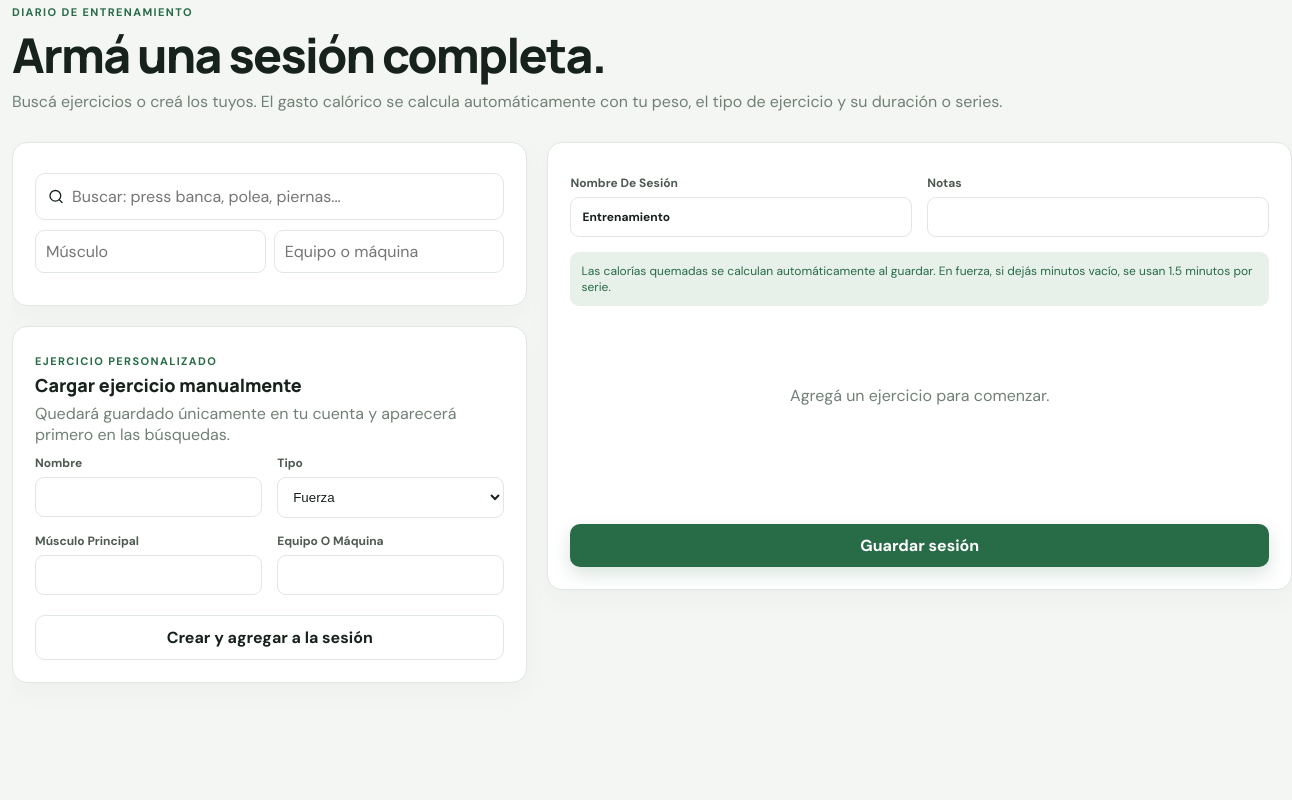
creates a private manual exercise and adds it to the session
In the field labelled "Nombre": [149, 497] box x1=35 y1=477 x2=262 y2=517, type "Press especial"
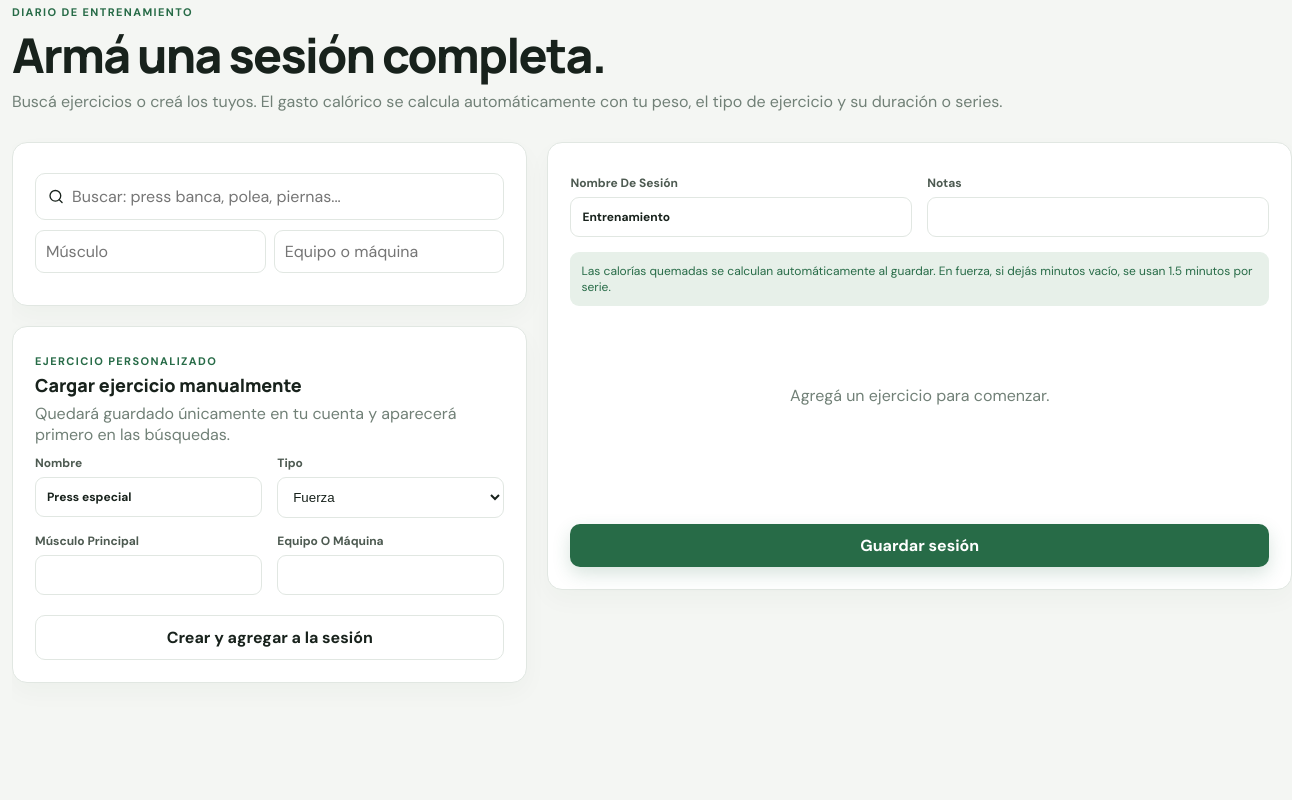
In the field labelled "Equipo o máquina" below "Músculo principal": [391, 575] box x1=277 y1=555 x2=504 y2=595, type "Polea"
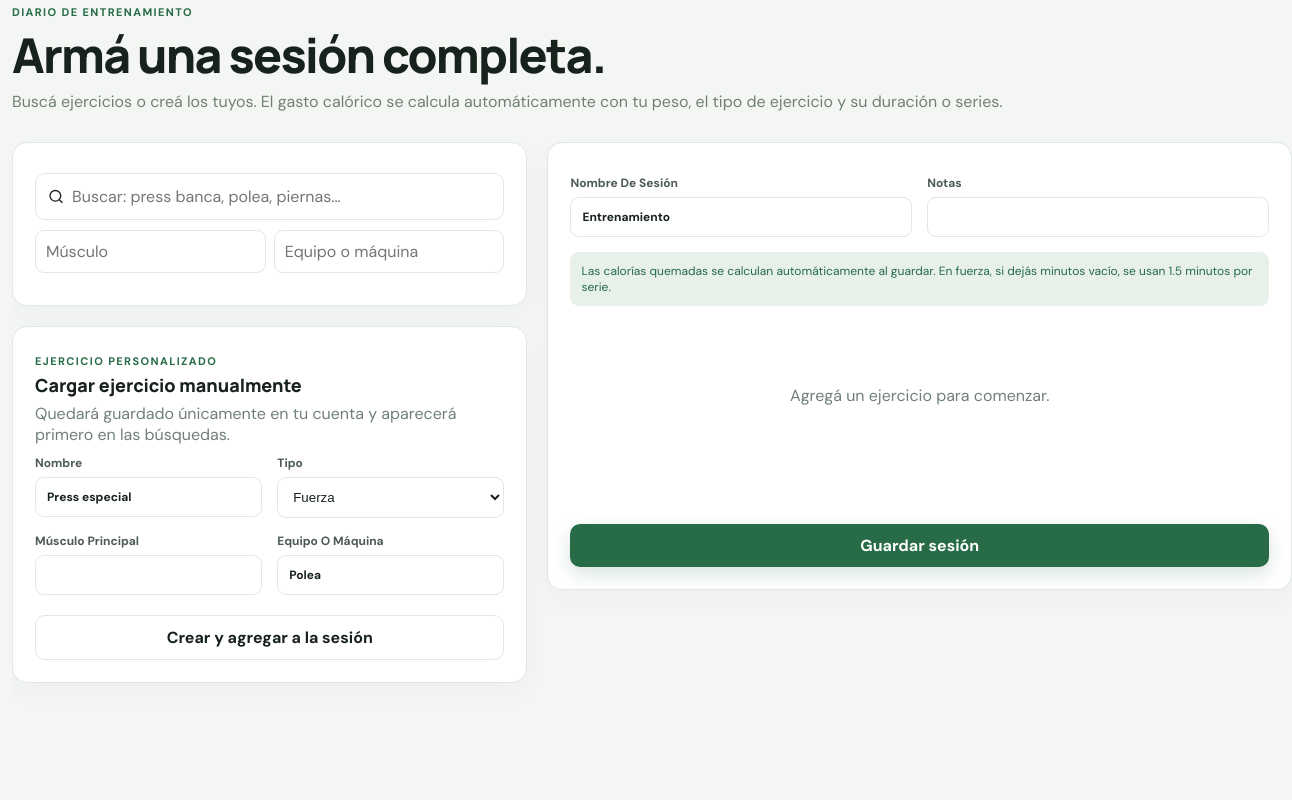
Click the button "Crear y agregar a la sesión": [270, 637] box x1=35 y1=615 x2=504 y2=660
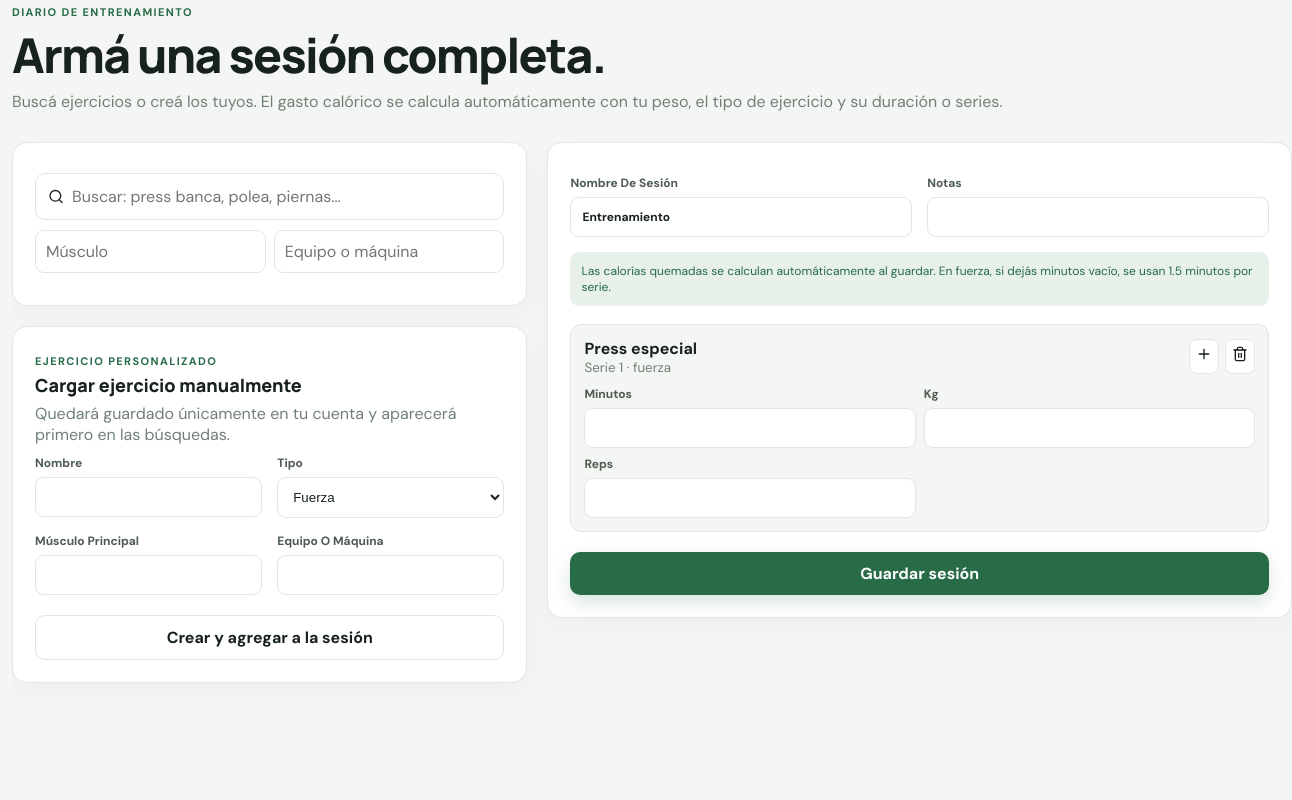
Result: the text "Press especial" is shown at x1=584 y1=338 x2=697 y2=359
